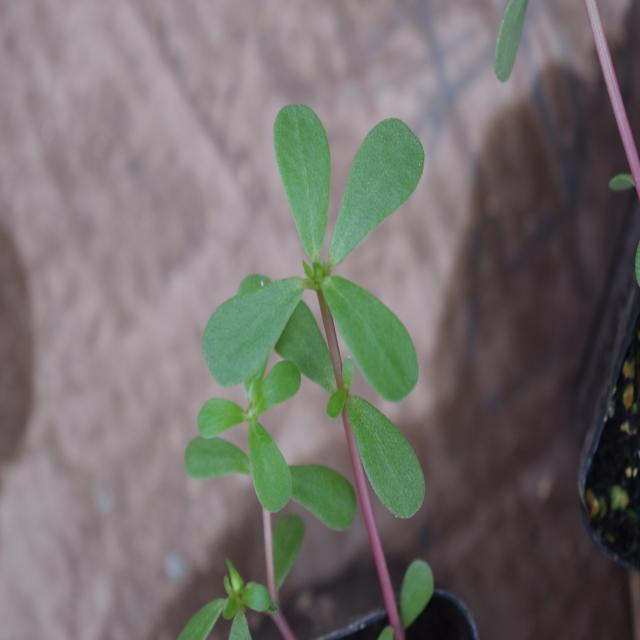purslane: (180, 92, 458, 563)
